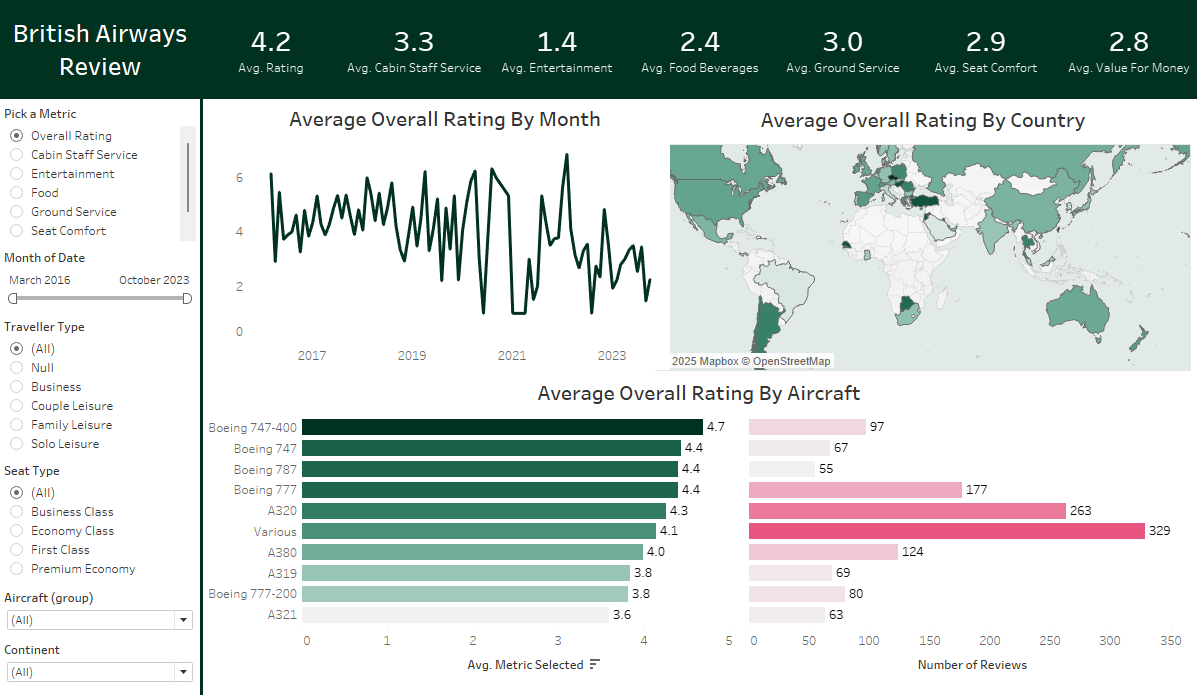

What the dashboard file says about the page in this screenshot:
{"tool":"tableau","page":{"name":"Dashboard 1","canvas":[1200,700],"ordinal":0},"visuals":[{"type":"text","box":[0,0,200,100]},{"type":"worksheet","title":"Summary","mark":"Automatic","box":[200,0,1000,100]},{"type":"blank","box":[200,100,3,600]},{"type":"worksheet","title":"Month","mark":"Automatic","rows":["Calculation_1007398964294021122"],"cols":["date"],"box":[220,101,450,270]},{"type":"parameter","param":"[Parameters].[Parameter 1]","box":[0,102,200,144]},{"type":"worksheet","title":"Map","mark":"Automatic","box":[655,102,536,270]},{"type":"filter","title":"Map","param":"[federated.0tjwect1svytty19z0f8h0mra3jz].[tmn:date:qk]","box":[0,246,200,69]},{"type":"filter","title":"Map","param":"[federated.0tjwect1svytty19z0f8h0mra3jz].[none:traveller_type:nk]","box":[0,315,200,144]},{"type":"worksheet","title":"Aircraft","mark":"Automatic","cols":["Calculation_1007398964294021122","Calculation_1007398964294021122"],"box":[202,375,994,306]},{"type":"filter","title":"Map","param":"[federated.0tjwect1svytty19z0f8h0mra3jz].[none:seat_type:nk]","box":[0,459,200,127]},{"type":"filter","title":"Map","param":"[federated.0tjwect1svytty19z0f8h0mra3jz].[Aircraft (group)]","box":[0,586,200,52]},{"type":"filter","title":"Map","param":"[federated.0tjwect1svytty19z0f8h0mra3jz].[none:Continent:nk]","box":[0,638,200,52]}]}

Visuals, with their boxes in screenshot pixels (x1, y1, x2, y2), scaled from the page's 1200x700 canvas onto the 1197x695 screenshot:
text: select_region(0, 0, 200, 99)
"Summary" worksheet: select_region(200, 0, 1196, 99)
blank: select_region(200, 99, 202, 694)
"Month" worksheet: select_region(219, 100, 668, 368)
parameter: select_region(0, 101, 200, 244)
"Map" worksheet: select_region(653, 101, 1188, 369)
"Map" filter: select_region(0, 244, 200, 313)
"Map" filter: select_region(0, 313, 200, 456)
"Aircraft" worksheet: select_region(201, 372, 1193, 676)
"Map" filter: select_region(0, 456, 200, 582)
"Map" filter: select_region(0, 582, 200, 633)
"Map" filter: select_region(0, 633, 200, 685)
